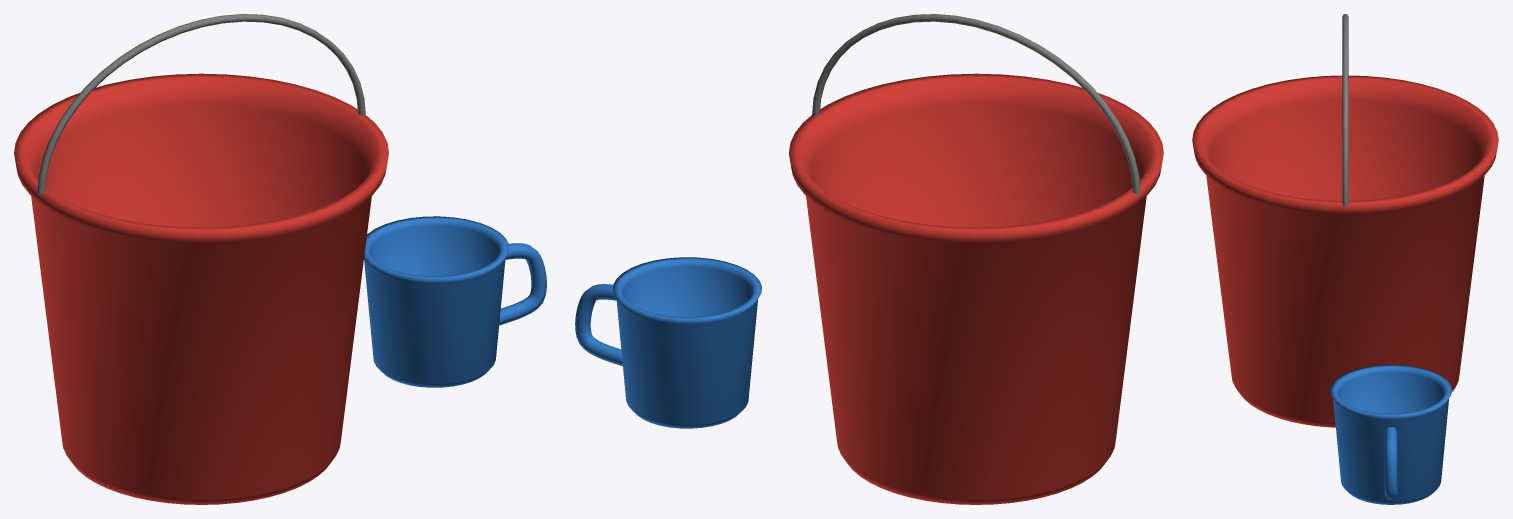
File: bucket_mug.glb
3 views of the same model, side by side, from view 1: azimuth 30°, elevation 25°; view 2: azimuth 150°, elevation 25°; view 3: azimuth 270°, elevation 25° (orthographic). The views are drawn at different scales.
Visible parts, largest first — view 1: bucket_mug; view 2: bucket_mug; view 3: bucket_mug.
Part boxes in pixels (<box>): bucket_mug: <box>14,14,546,504</box>; bucket_mug: <box>575,14,1163,504</box>; bucket_mug: <box>1192,14,1498,504</box>.
Size of the model in its own units: 0.5532 by 0.423 by 0.336.
